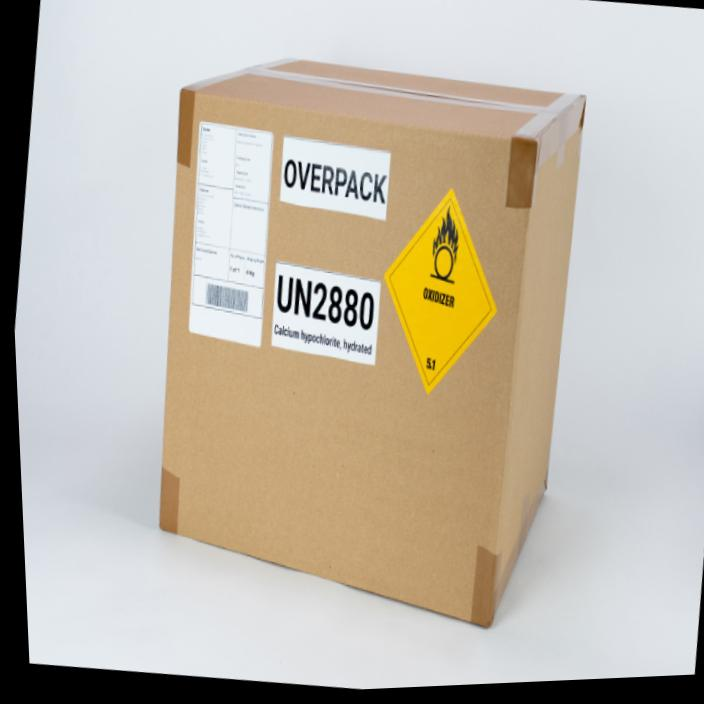defibrillator: (387, 190, 495, 392)
